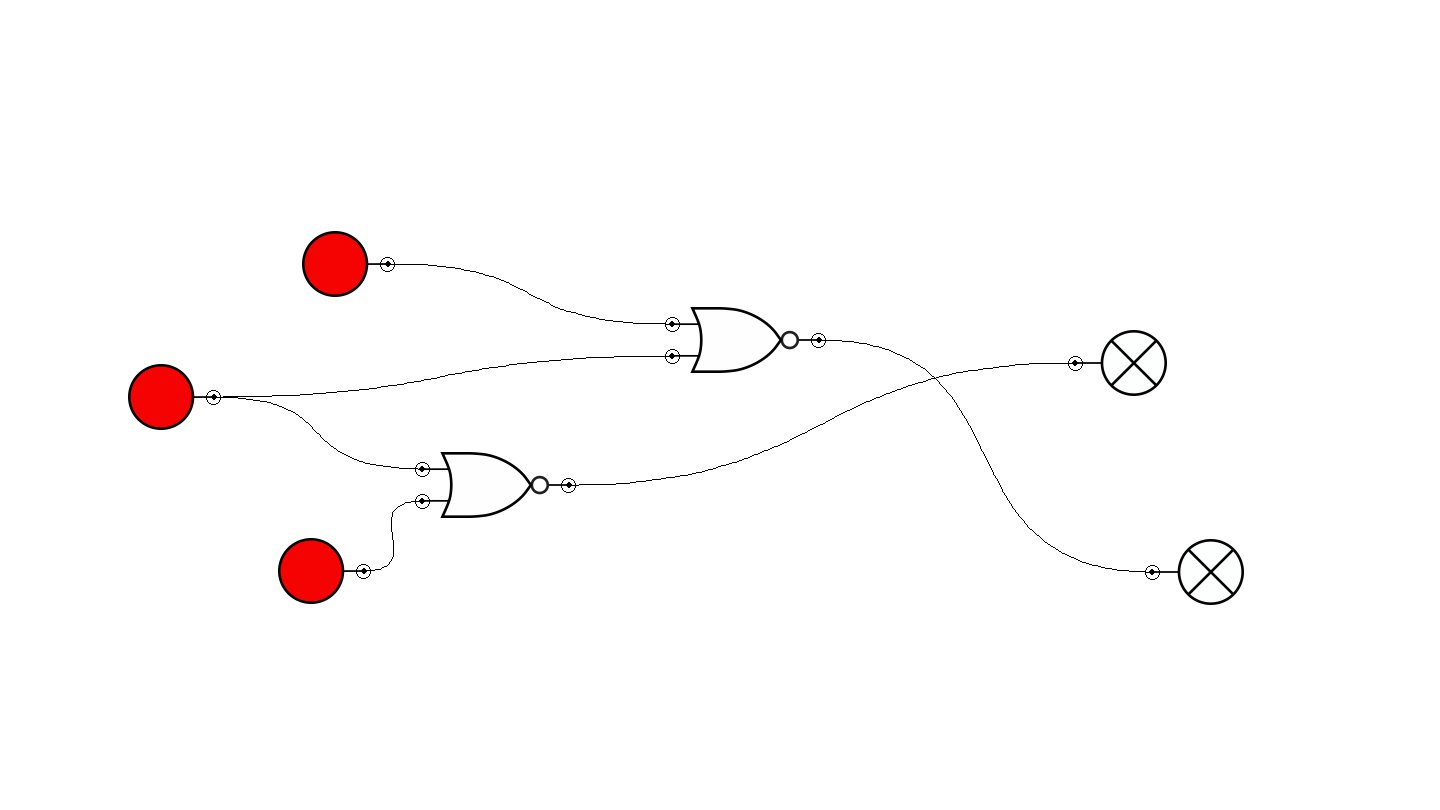bulb: (1145, 539, 1244, 605), (1068, 330, 1167, 396)
nor: (415, 452, 576, 518), (665, 307, 826, 373)
switch_False: (302, 231, 395, 297), (128, 364, 221, 430), (278, 538, 371, 604)
